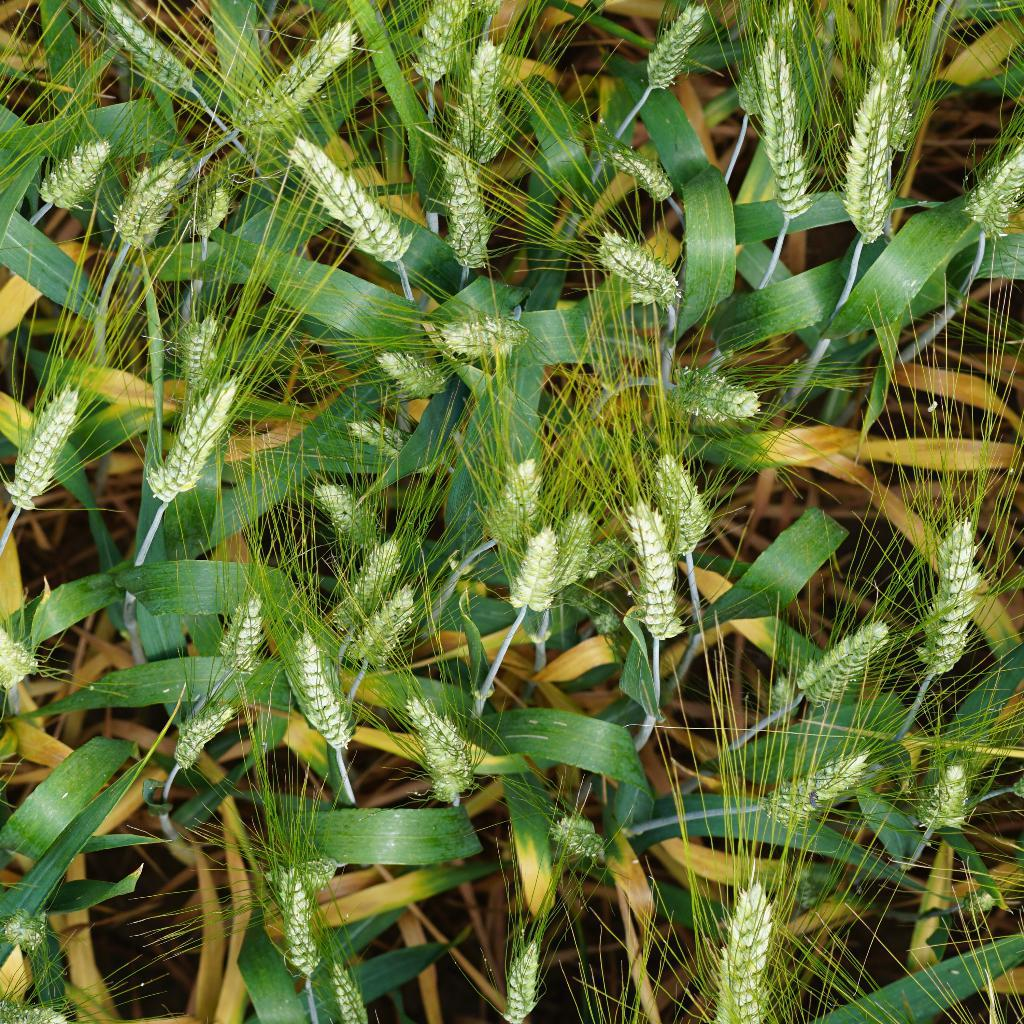0-0: (116, 359, 254, 515), (213, 11, 365, 138), (291, 127, 414, 266), (744, 29, 822, 221), (829, 59, 907, 246), (785, 609, 897, 714), (85, 0, 201, 100), (0, 372, 79, 518), (281, 619, 367, 752), (580, 213, 690, 316), (616, 490, 688, 647), (759, 740, 874, 836), (914, 514, 980, 680), (395, 683, 481, 806), (651, 347, 773, 432), (716, 860, 778, 1024), (306, 519, 395, 627), (722, 0, 803, 108), (262, 859, 333, 982), (643, 449, 718, 556), (351, 571, 423, 681), (210, 565, 273, 687), (440, 139, 497, 272), (477, 441, 538, 564), (18, 126, 104, 213), (434, 286, 527, 365), (642, 0, 712, 103), (963, 123, 1024, 237), (460, 34, 519, 149), (118, 146, 183, 250), (585, 133, 684, 201), (907, 740, 978, 834), (302, 468, 382, 548), (417, 0, 479, 97), (507, 518, 561, 623), (164, 697, 235, 773), (545, 499, 597, 598), (500, 927, 549, 1024), (160, 299, 225, 372), (377, 342, 452, 402), (0, 610, 53, 692), (546, 803, 616, 863), (326, 963, 391, 1024), (187, 178, 240, 249), (342, 406, 414, 458), (567, 532, 639, 580), (0, 904, 59, 959), (0, 985, 73, 1024), (585, 598, 625, 642)
